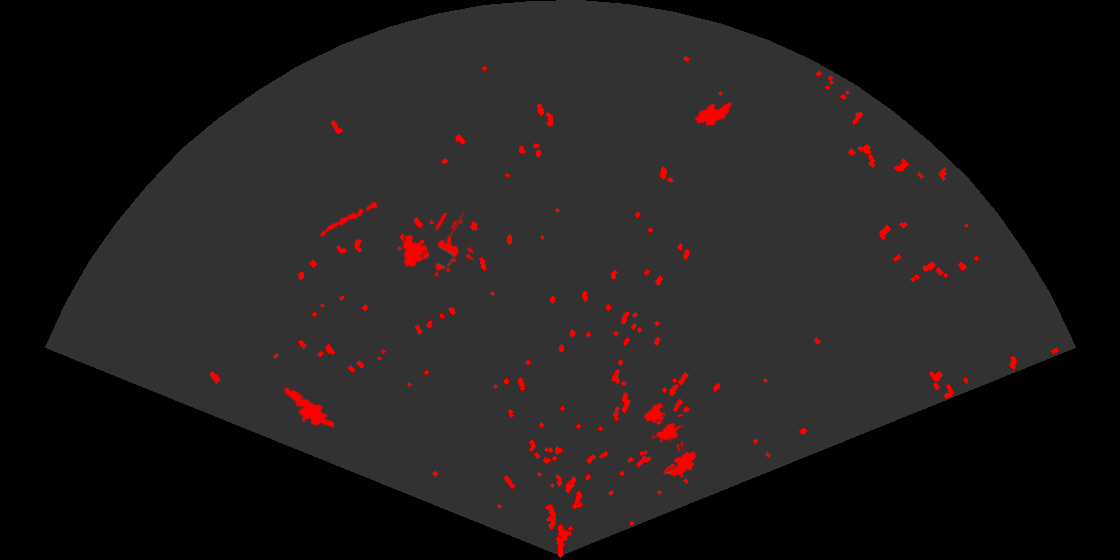AUV: (693, 101, 734, 128), (665, 450, 698, 478)
cage: (401, 213, 473, 278), (642, 401, 683, 452)
chain: (310, 199, 380, 240)
frogman: (274, 384, 334, 430)
